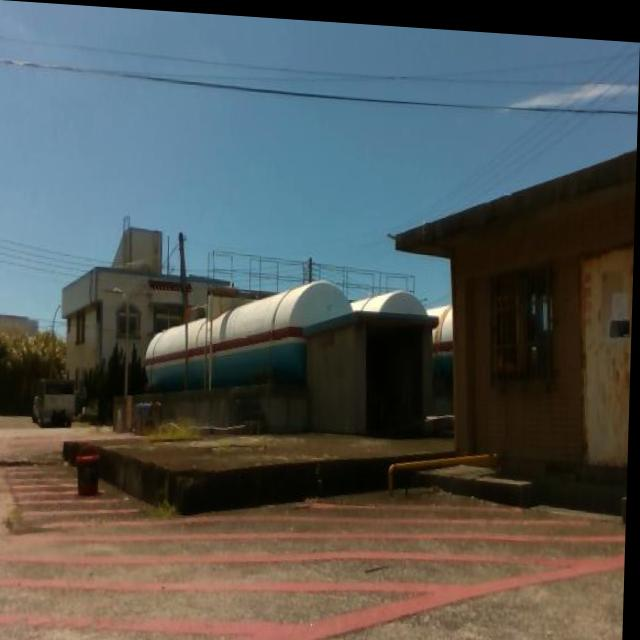pollute: (76, 439, 105, 498)
